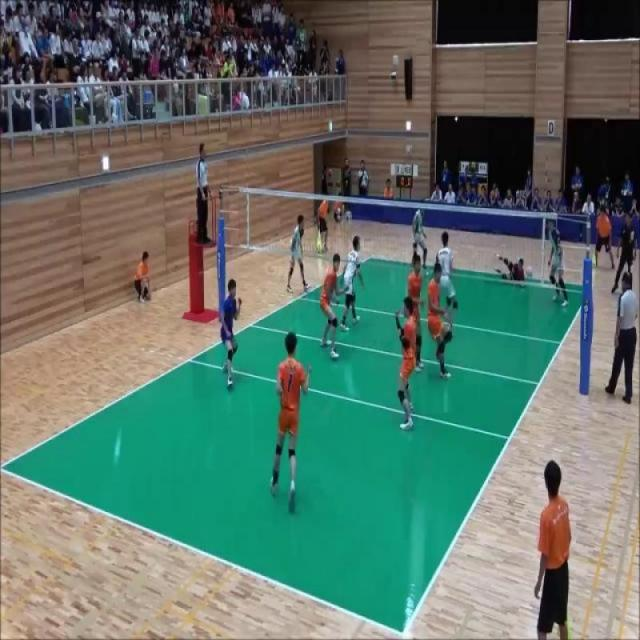volleyball: (526, 266, 534, 278)
